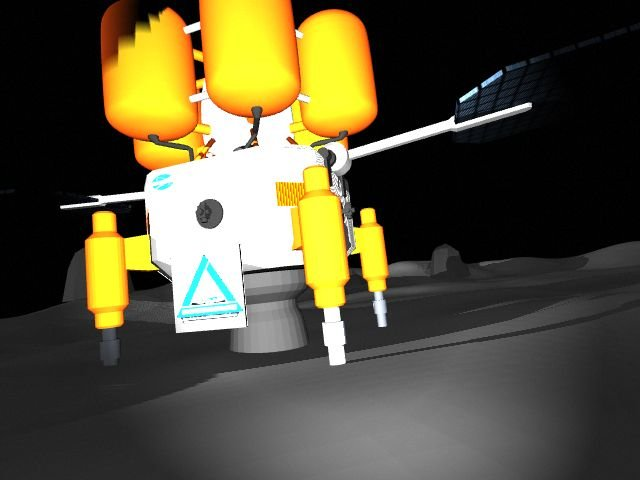basemarker: (175, 253, 244, 323)
